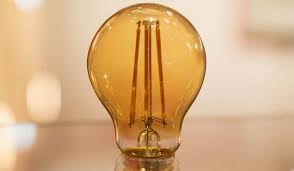bulb: (75, 1, 223, 171)
